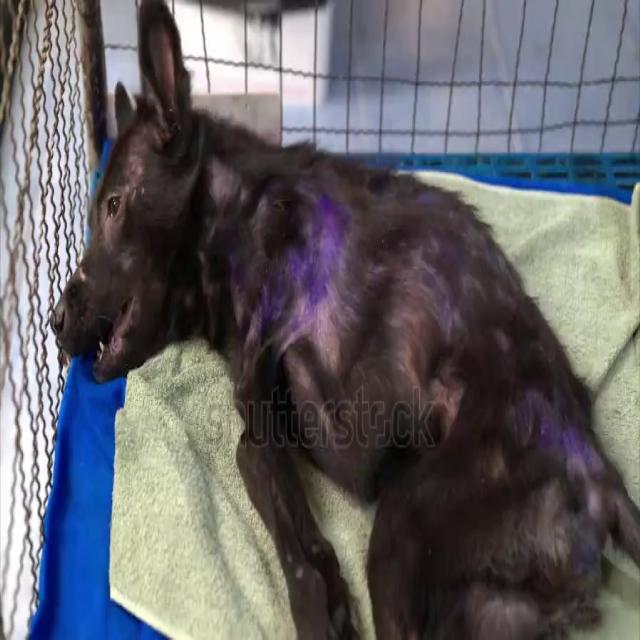injured-animals: (45, 2, 636, 635)
